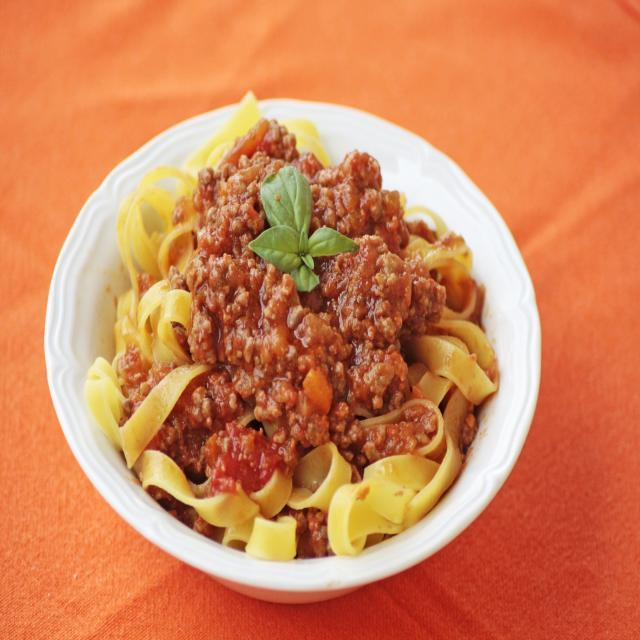Pasta al ragu: (115, 105, 506, 560)
